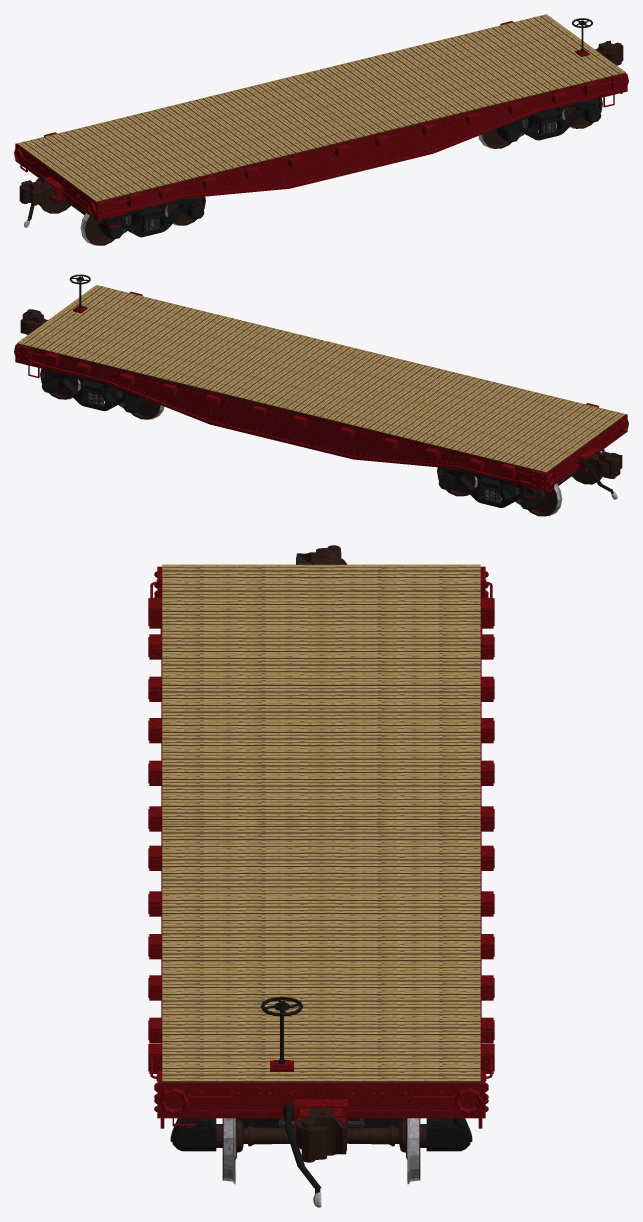
The model's file is prr_flatcar_1.obj.
The picture shows the model from 3 angles, top to bottom: view 1: azimuth 30°, elevation 25°; view 2: azimuth 150°, elevation 25°; view 3: azimuth 270°, elevation 25°; orthographic projection. The views are drawn at different scales.
Parts seen in each view (by area): view 1: FRAME_Cube.011, BOGEY_REAR_Cube, BOGEY_FRONT_Cube.010, BOGEY_REAR_WHEEL1_Cylinder.003, BACK_COUPLER.000_Cube.025, BACK_COUPLER.002_Cube.015, BOGEY_FRONT_WHEEL1_Cylinder.009, BOGEY_FRONT_WHEEL2_Cylinder.008, BOGEY_REAR_WHEEL2_Cylinder.005; view 2: FRAME_Cube.011, BOGEY_REAR_Cube, BOGEY_FRONT_Cube.010, BOGEY_REAR_WHEEL1_Cylinder.003, BACK_COUPLER.000_Cube.025, BACK_COUPLER.002_Cube.015, BOGEY_FRONT_WHEEL1_Cylinder.009, BOGEY_FRONT_WHEEL2_Cylinder.008, BOGEY_REAR_WHEEL2_Cylinder.005; view 3: FRAME_Cube.011, BOGEY_FRONT_WHEEL2_Cylinder.008, BACK_COUPLER.002_Cube.015, BOGEY_FRONT_BEARINGS_Cube.009.
Boxes of the visible parts, left/top/right/bottom form: FRAME_Cube.011: left=14, top=14, right=628, bottom=228; BOGEY_REAR_Cube: left=102, top=197, right=198, bottom=237; BOGEY_FRONT_Cube.010: left=502, top=99, right=595, bottom=140; BOGEY_REAR_WHEEL1_Cylinder.003: left=40, top=197, right=123, bottom=245; BACK_COUPLER.000_Cube.025: left=19, top=176, right=55, bottom=227; BACK_COUPLER.002_Cube.015: left=595, top=40, right=623, bottom=65; BOGEY_FRONT_WHEEL1_Cylinder.009: left=478, top=122, right=520, bottom=148; BOGEY_FRONT_WHEEL2_Cylinder.008: left=562, top=97, right=602, bottom=128; BOGEY_REAR_WHEEL2_Cylinder.005: left=165, top=196, right=205, bottom=225; FRAME_Cube.011: left=14, top=285, right=628, bottom=498; BOGEY_REAR_Cube: left=444, top=468, right=540, bottom=507; BOGEY_FRONT_Cube.010: left=47, top=370, right=140, bottom=411; BOGEY_REAR_WHEEL1_Cylinder.003: left=519, top=450, right=602, bottom=516; BACK_COUPLER.000_Cube.025: left=577, top=451, right=622, bottom=499; BACK_COUPLER.002_Cube.015: left=20, top=309, right=47, bottom=334; BOGEY_FRONT_WHEEL1_Cylinder.009: left=122, top=393, right=164, bottom=419; BOGEY_FRONT_WHEEL2_Cylinder.008: left=40, top=368, right=80, bottom=399; BOGEY_REAR_WHEEL2_Cylinder.005: left=437, top=467, right=477, bottom=496; FRAME_Cube.011: left=148, top=564, right=494, bottom=1132; BOGEY_FRONT_WHEEL2_Cylinder.008: left=216, top=1118, right=426, bottom=1184; BACK_COUPLER.002_Cube.015: left=282, top=1103, right=346, bottom=1207; BOGEY_FRONT_BEARINGS_Cube.009: left=172, top=1118, right=470, bottom=1151.
Size of the model in its own units: 11.27 by 1.72 by 2.83.
